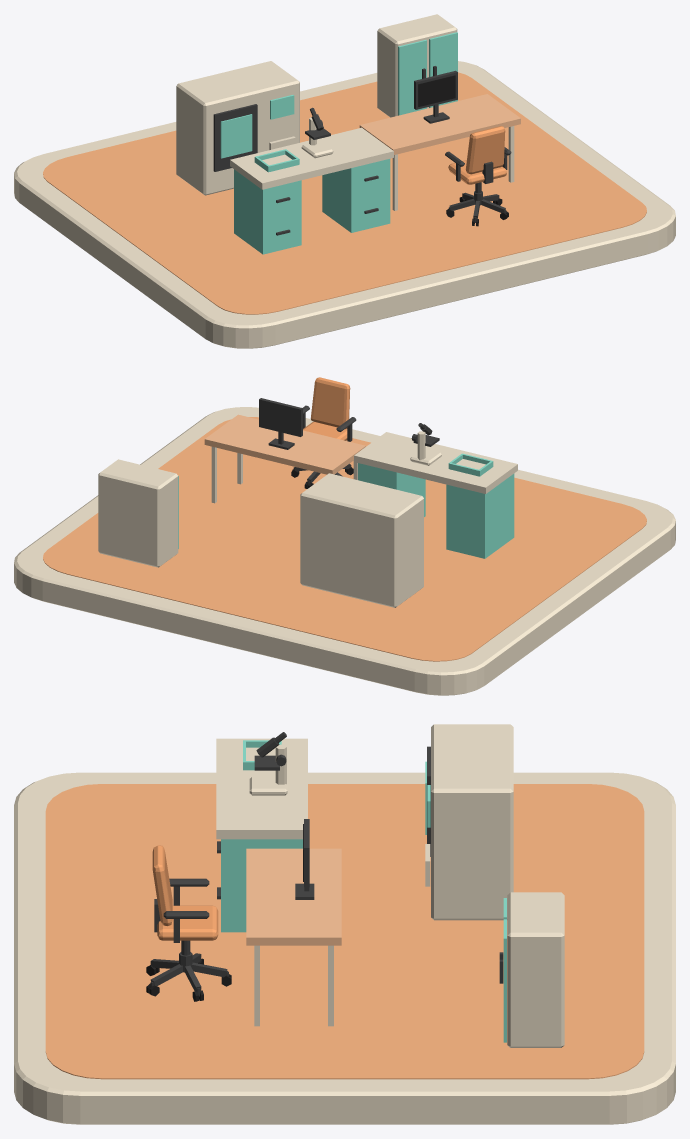
3 views of the same model, one above another, from view 1: azimuth 30°, elevation 25°; view 2: azimuth 150°, elevation 25°; view 3: azimuth 270°, elevation 25° (orthographic). The views are drawn at different scales.
Visible parts, largest first — view 1: COM-02 Floor Surface, COM-01 Rounded Base Direct, Analysis cabinet, Top, Storage module, Worktop, Storage module.001, COM-04_Chair_blender_direct, Equipment case, Door, Frame, Sample chamber (+3 smaller); view 2: COM-02 Floor Surface, COM-01 Rounded Base Direct, Analysis cabinet, Equipment case, Top, Storage module, Worktop, COM-04_Chair_blender_direct, Frame, Storage module.001; view 3: COM-02 Floor Surface, COM-01 Rounded Base Direct, Analysis cabinet, Top, Equipment case, Worktop, COM-04_Chair_blender_direct, Storage module.001, Frame, Foot.
Boxes of the visible parts, x1,y1,x2,y2 form: COM-02 Floor Surface: (43,72,646,314); COM-01 Rounded Base Direct: (14,61,675,348); Analysis cabinet: (176,61,299,195); Top: (359,94,520,210); Storage module: (234,169,301,254); Worktop: (230,127,393,189); Storage module.001: (322,159,390,232); COM-04_Chair_blender_direct: (445,126,511,226); Equipment case: (377,14,457,117); Door: (398,39,426,115); Frame: (414,70,457,123); Sample chamber: (213,104,257,171); COM-02 Floor Surface: (43,417,646,661); COM-01 Rounded Base Direct: (14,407,675,695); Analysis cabinet: (300,473,423,607); Equipment case: (98,459,178,567); Top: (204,414,365,503); Storage module: (446,473,514,558); Worktop: (354,432,517,493); COM-04_Chair_blender_direct: (291,377,356,488); Frame: (259,398,302,449); Storage module.001: (358,463,425,516); COM-02 Floor Surface: (45,784,644,1079); COM-01 Rounded Base Direct: (14,772,675,1124); Analysis cabinet: (431,724,513,920); Top: (246,848,341,1026); Equipment case: (507,892,564,1047); Worktop: (216,738,307,839); COM-04_Chair_blender_direct: (146,845,231,1001); Storage module.001: (221,839,302,932); Frame: (295,819,314,899); Foot: (249,776,287,795).
Bounding box in the file's own units: 6 × 1.69 × 5.2.
1 material, 1 textured.
